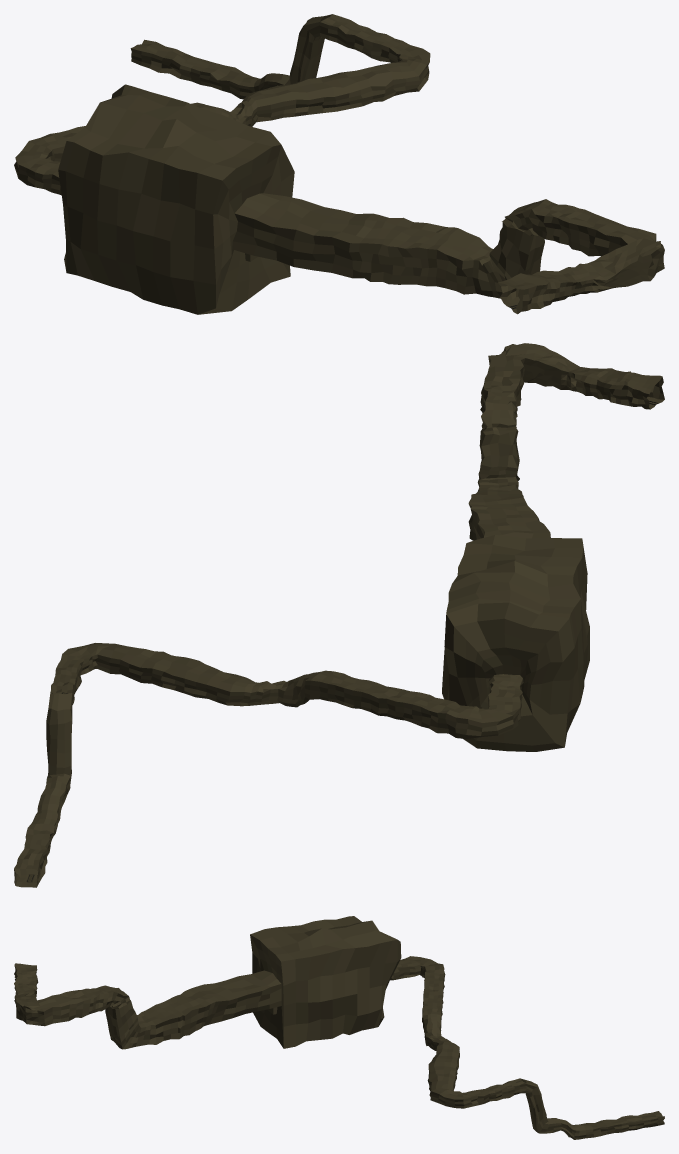
File: CheminUnity.FBX
3 renders of one model, top to bottom at view 1: azimuth 30°, elevation 25°; view 2: azimuth 150°, elevation 25°; view 3: azimuth 270°, elevation 25°, orthographic. The views are drawn at different scales.
Visible parts, largest first — view 1: Mine00, Mine13, Mine15, Mine08, Mine10, Mine11, Mine12, Mine14, Mine07, Mine01, Mine03, Mine09 (+3 smaller); view 2: Mine00, Mine05, Mine08, Mine07, Mine13, Mine01, Mine11, Mine14, Mine09, Mine12, Mine10, Mine03 (+2 smaller); view 3: Mine00, Mine13, Mine15, Mine10, Mine11, Mine09, Mine02, Mine08, Mine03, Mine05, Mine01, Mine07 (+4 smaller).
Boxes of the visible parts, bbox=[...] form: Mine00: bbox=[58, 84, 294, 314]; Mine13: bbox=[349, 213, 493, 297]; Mine15: bbox=[233, 193, 372, 278]; Mine08: bbox=[279, 62, 407, 116]; Mine10: bbox=[522, 199, 655, 256]; Mine11: bbox=[482, 202, 544, 298]; Mine12: bbox=[580, 234, 664, 292]; Mine14: bbox=[498, 264, 593, 314]; Mine07: bbox=[14, 132, 68, 195]; Mine01: bbox=[198, 85, 296, 126]; Mine03: bbox=[189, 60, 280, 99]; Mine09: bbox=[267, 14, 332, 87]; Mine00: bbox=[442, 535, 589, 751]; Mine05: bbox=[309, 670, 454, 732]; Mine08: bbox=[108, 646, 222, 698]; Mine07: bbox=[437, 683, 522, 738]; Mine13: bbox=[468, 484, 549, 540]; Mine01: bbox=[205, 671, 319, 707]; Mine11: bbox=[477, 410, 519, 486]; Mine14: bbox=[575, 368, 664, 409]; Mine09: bbox=[45, 692, 72, 800]; Mine12: bbox=[491, 343, 589, 391]; Mine10: bbox=[480, 355, 525, 422]; Mine03: bbox=[25, 787, 65, 856]; Mine00: bbox=[250, 916, 401, 1048]; Mine13: bbox=[135, 988, 220, 1046]; Mine15: bbox=[193, 970, 281, 1024]; Mine10: bbox=[37, 985, 118, 1025]; Mine11: bbox=[105, 987, 141, 1049]; Mine09: bbox=[520, 1078, 561, 1133]; Mine02: bbox=[429, 1084, 484, 1108]; Mine08: bbox=[427, 1051, 458, 1091]; Mine03: bbox=[559, 1119, 622, 1139]; Mine05: bbox=[422, 972, 444, 1020]; Mine01: bbox=[422, 1013, 459, 1060]; Mine07: bbox=[390, 956, 445, 980].
Bounding box in the file's own units: 101 × 42.65 × 204.
